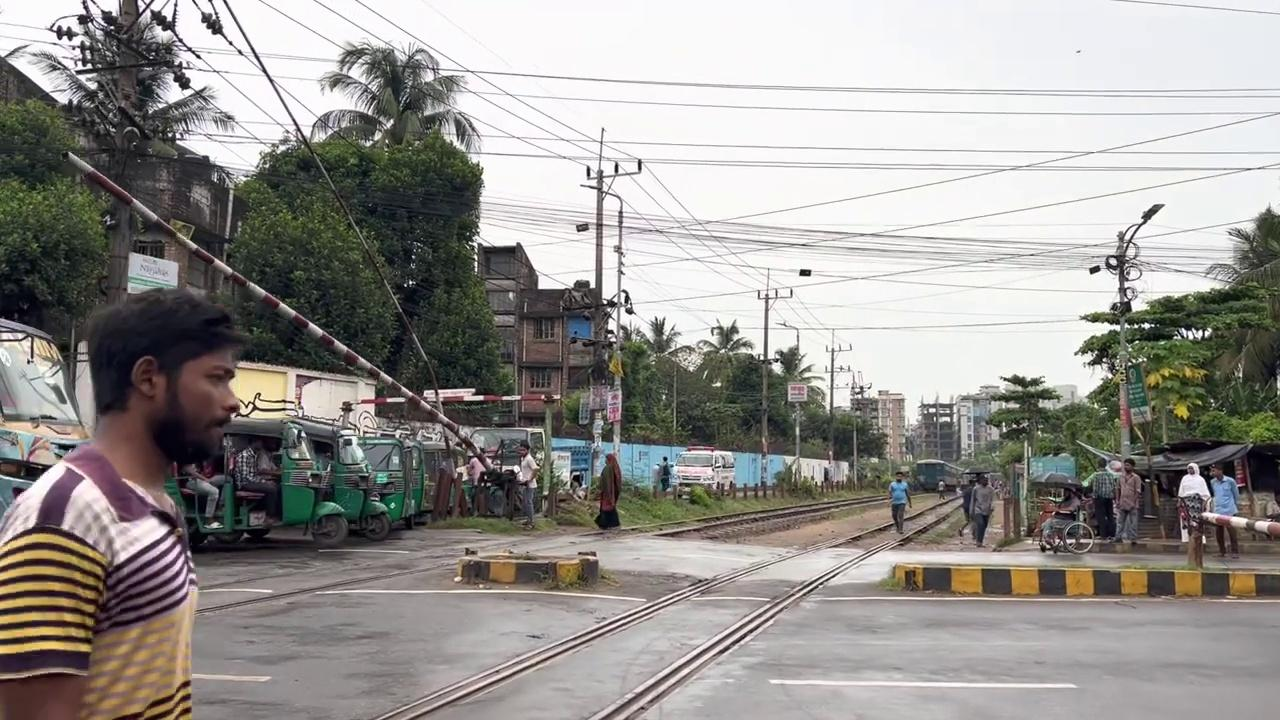Car: (891, 561, 1279, 598)
Downstairs: (454, 548, 599, 589)
Fence: (0, 286, 248, 719), (1209, 463, 1240, 557), (513, 440, 540, 529), (594, 452, 622, 529), (887, 470, 912, 533), (659, 456, 671, 491), (937, 479, 946, 500)
Garbage: (64, 149, 495, 474)
Rickshaw: (170, 393, 392, 549), (0, 315, 92, 519)
